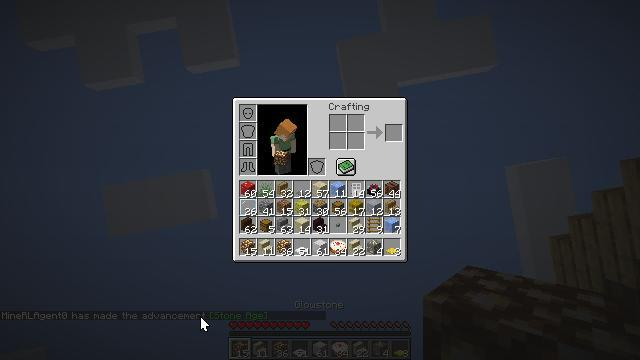cursor: (200, 316, 210, 332)
